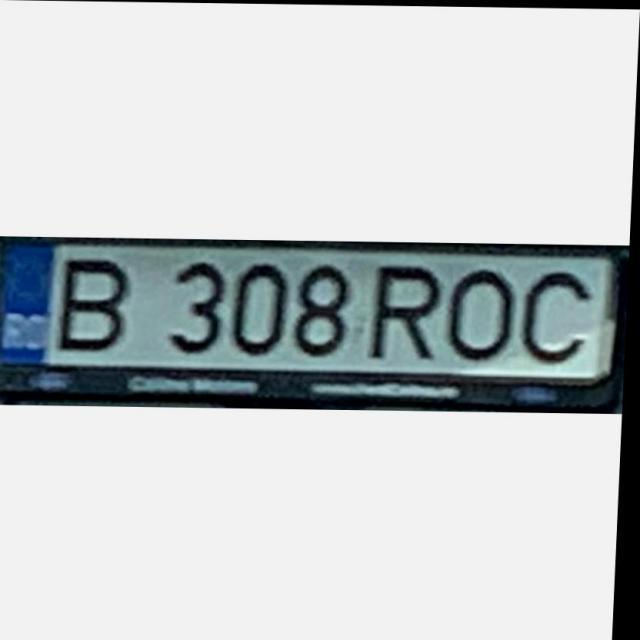license-plates: (0, 240, 626, 412)
